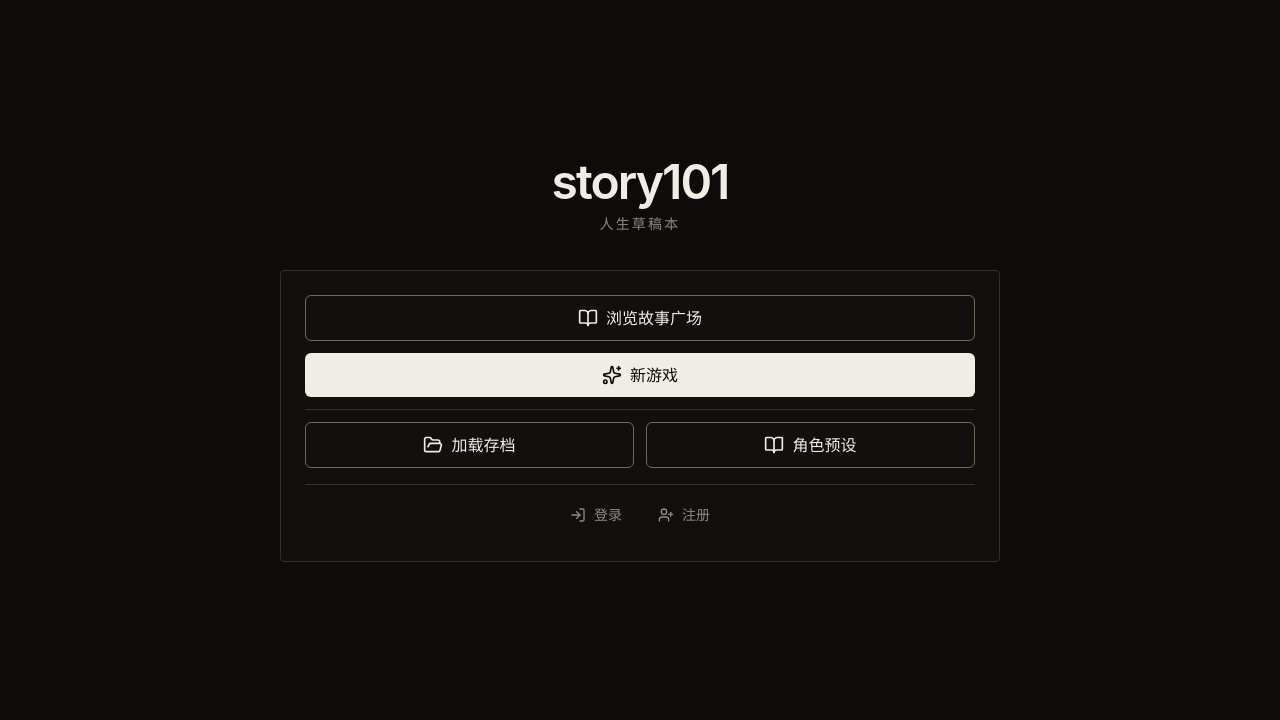
Test case: WelcomePage › Unauthenticated user interactions › opens login sheet when clicking "加载存档" while not authenticated
Step 1. Click the button "加载存档" → (470, 445), box [305, 422, 634, 468]
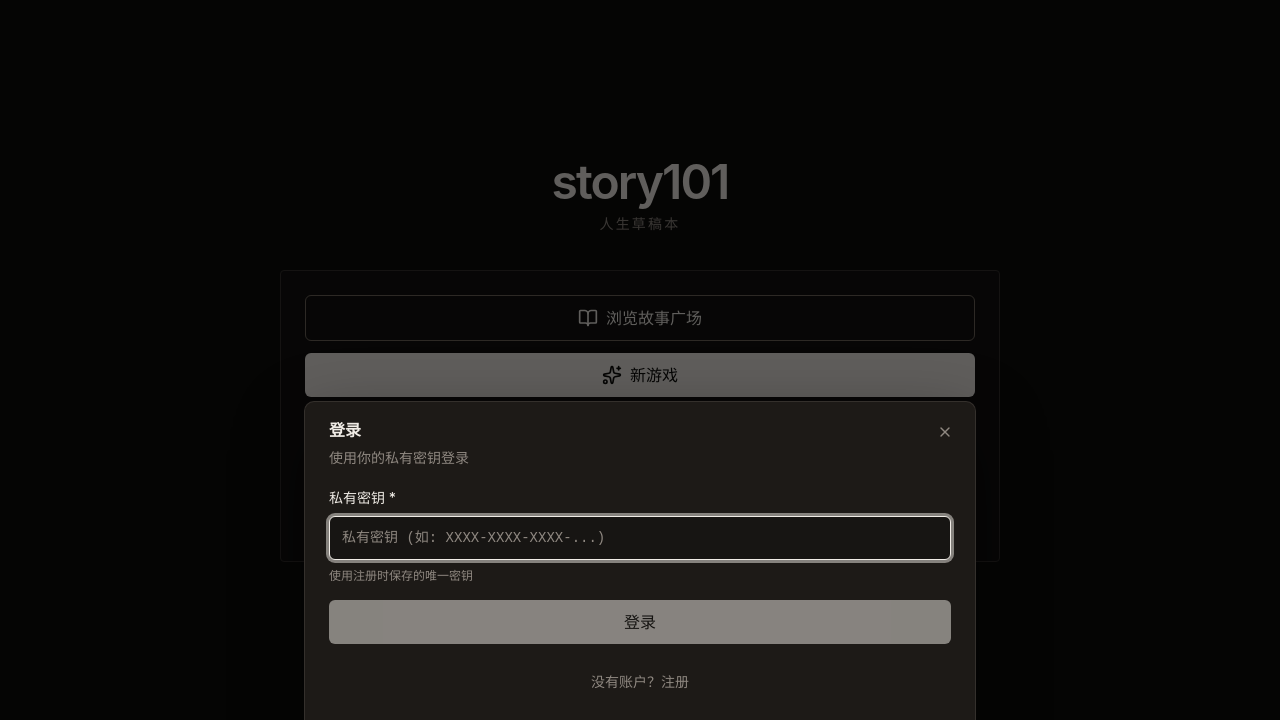
Check: the text "使用你的私有密钥登录" is shown, box [329, 449, 469, 466]
